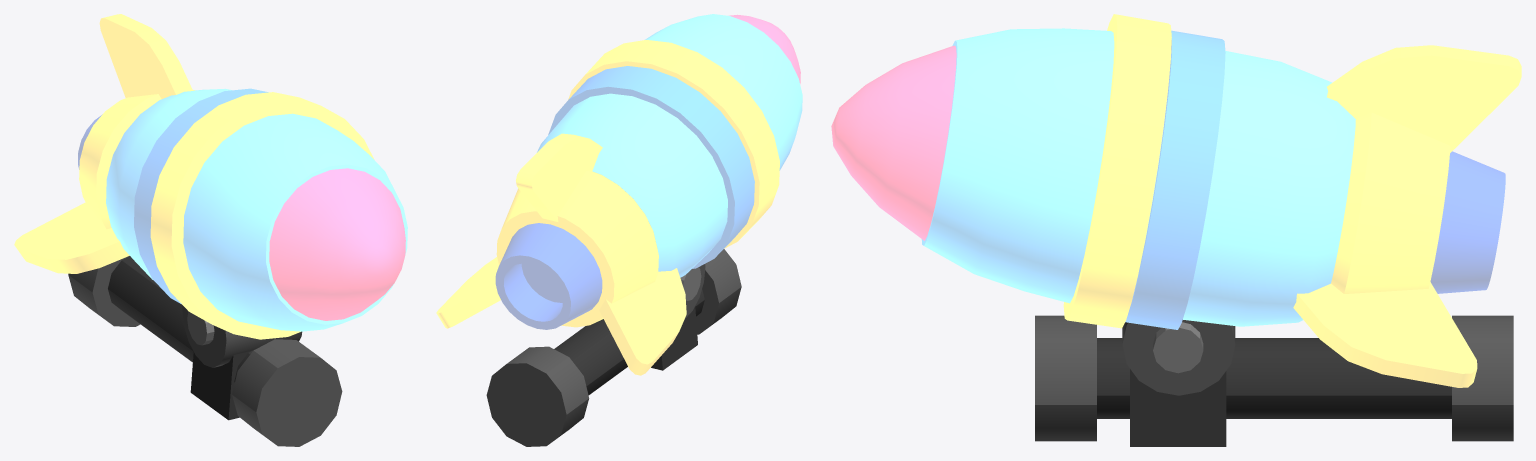
File: bluebird.glb
The picture shows the model from 3 angles, left to right: view 1: azimuth 30°, elevation 25°; view 2: azimuth 150°, elevation 25°; view 3: azimuth 270°, elevation 25°; orthographic projection. The views are drawn at different scales.
Visible parts, largest first — view 1: rocket, bluebird; view 2: rocket, bluebird; view 3: rocket, bluebird.
Part boxes in pixels (x1,y1,x2,y2): rocket: (14,14,407,339); bluebird: (68,256,342,446); rocket: (436,14,802,375); bluebird: (486,249,741,446); rocket: (831,14,1521,387); bluebird: (1035,315,1513,446).
Size of the model in its own units: 0.7174 by 0.9549 by 1.47.
Materials: 2 (2 with a texture image).
